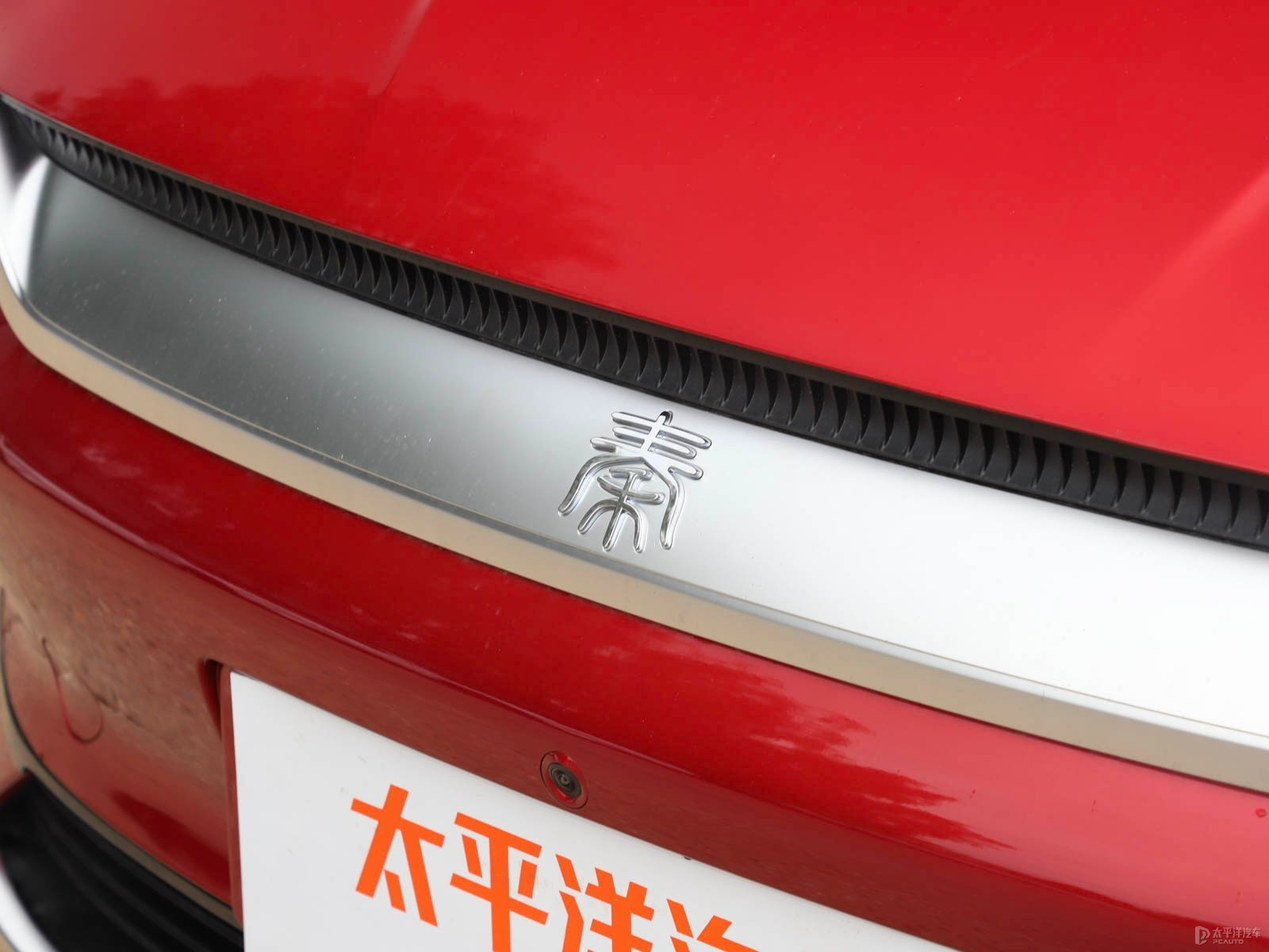BYD Qin: (558, 411, 711, 552)
